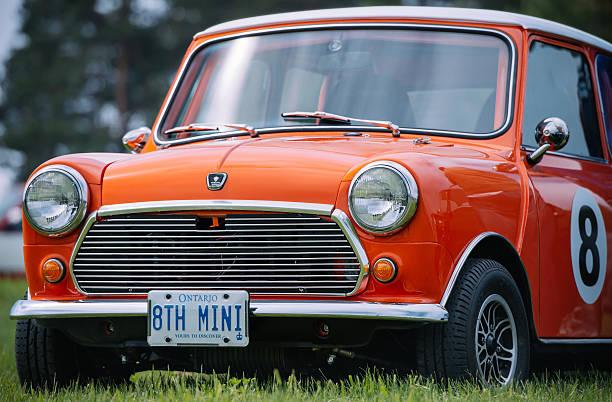licence: (141, 288, 255, 351)
